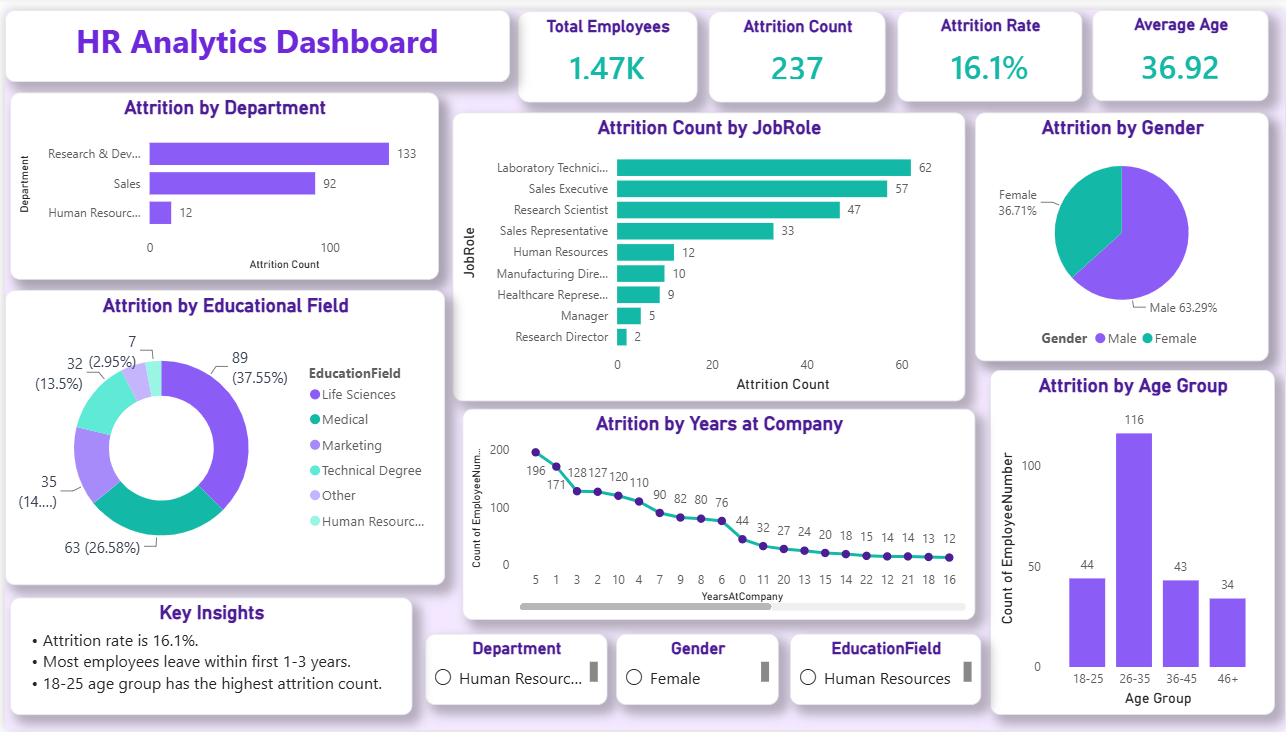

This screenshot's page, from the dashboard's own definition file:
{"tool":"powerbi","page":{"name":"Page 1","canvas":[1280,720],"ordinal":0},"visuals":[{"type":"cardVisual","title":"Total Employees","fields":{"Data":["Count(WA_Fn-UseC_-HR-Employee-Attrition.EmployeeNumber)"]},"box":[513,1,180,91],"z":0},{"type":"textbox","box":[0,0,505,72],"z":1000},{"type":"cardVisual","title":"Attrition Count","fields":{"Data":["WA_Fn-UseC_-HR-Employee-Attrition.Attrition Count"]},"box":[704,1,177,91],"z":2000},{"type":"cardVisual","title":"Attrition Rate","fields":{"Data":["WA_Fn-UseC_-HR-Employee-Attrition.Attrition Rate"]},"box":[892,1,185,90],"z":3000},{"type":"cardVisual","title":"Average Age","fields":{"Data":["WA_Fn-UseC_-HR-Employee-Attrition.Average Age"]},"box":[1088,0,176,91],"z":3001},{"type":"clusteredBarChart","title":"Attrition by Department","fields":{"Category":["WA_Fn-UseC_-HR-Employee-Attrition.Department"],"Y":["WA_Fn-UseC_-HR-Employee-Attrition.Attrition Count"]},"box":[5,82.5,428.8,187.5],"z":3002},{"type":"clusteredBarChart","fields":{"Category":["WA_Fn-UseC_-HR-Employee-Attrition.JobRole"],"Y":["WA_Fn-UseC_-HR-Employee-Attrition.Attrition Count"]},"box":[447.5,102.5,512.5,288.8],"z":3003},{"type":"pieChart","title":"Attrition by Gender","fields":{"Category":["WA_Fn-UseC_-HR-Employee-Attrition.Gender"],"Y":["WA_Fn-UseC_-HR-Employee-Attrition.Attrition Count"]},"box":[970,102.5,293.8,248.8],"z":3004},{"type":"columnChart","title":"Attrition by Age Group","fields":{"Category":["WA_Fn-UseC_-HR-Employee-Attrition.Age Group"],"Y":["Count(WA_Fn-UseC_-HR-Employee-Attrition.EmployeeNumber)"]},"box":[985,360,285,345],"z":3005},{"type":"donutChart","title":"Attrition by Educational Field ","fields":{"Category":["WA_Fn-UseC_-HR-Employee-Attrition.EducationField"],"Y":["CountNonNull(WA_Fn-UseC_-HR-Employee-Attrition.EmployeeNumber)"]},"box":[0,280,440,295],"z":3006},{"type":"lineChart","title":"Atrition by Years at Company","fields":{"Category":["WA_Fn-UseC_-HR-Employee-Attrition.YearsAtCompany"],"Y":["CountNonNull(WA_Fn-UseC_-HR-Employee-Attrition.EmployeeNumber)"]},"box":[457.5,398.8,512.5,211.2],"z":3007},{"type":"listSlicer","fields":{"Values":["WA_Fn-UseC_-HR-Employee-Attrition.Department"]},"box":[420,623.8,182.5,71.2],"z":3008},{"type":"listSlicer","fields":{"Values":["WA_Fn-UseC_-HR-Employee-Attrition.Gender"]},"box":[611.2,623.8,162.5,71.2],"z":3009},{"type":"listSlicer","fields":{"Values":["WA_Fn-UseC_-HR-Employee-Attrition.EducationField"]},"box":[785,623.8,191.2,71.2],"z":3010},{"type":"actionButton","box":[0,0,5,12.5],"z":3011},{"type":"textbox","title":"Key Insights","box":[5,587.5,402.5,117.5],"z":3012}]}

Visuals, with their boxes in screenshot pixels (x1, y1, x2, y2), scaled from the page's 1280x720 canvas onto the 1286x732 screenshot:
"Total Employees" cardVisual: box=[515, 1, 696, 94]
textbox: box=[0, 0, 507, 73]
"Attrition Count" cardVisual: box=[707, 1, 885, 94]
"Attrition Rate" cardVisual: box=[896, 1, 1082, 93]
"Average Age" cardVisual: box=[1093, 0, 1270, 93]
"Attrition by Department" clusteredBarChart: box=[5, 84, 436, 274]
clusteredBarChart - WA_Fn-UseC_-HR-Employee-Attrition.JobRole x WA_Fn-UseC_-HR-Employee-Attrition.Attrition Count: box=[450, 104, 964, 398]
"Attrition by Gender" pieChart: box=[975, 104, 1270, 357]
"Attrition by Age Group" columnChart: box=[990, 366, 1276, 717]
"Attrition by Educational Field " donutChart: box=[0, 285, 442, 585]
"Atrition by Years at Company" lineChart: box=[460, 405, 975, 620]
listSlicer - WA_Fn-UseC_-HR-Employee-Attrition.Department: box=[422, 634, 605, 707]
listSlicer - WA_Fn-UseC_-HR-Employee-Attrition.Gender: box=[614, 634, 777, 707]
listSlicer - WA_Fn-UseC_-HR-Employee-Attrition.EducationField: box=[789, 634, 981, 707]
actionButton: box=[0, 0, 5, 13]
"Key Insights" textbox: box=[5, 597, 409, 717]
